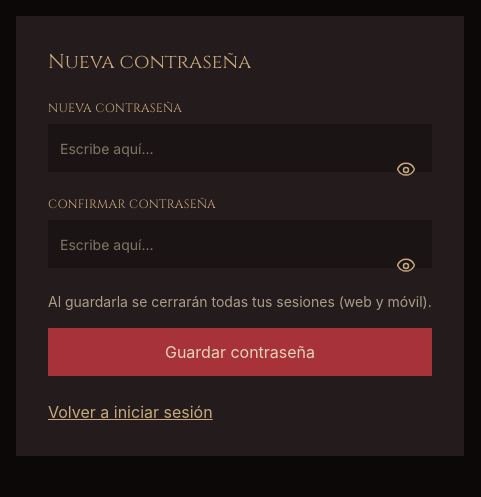
Scenario: reset password page › rejects mismatching passwords without calling the backend
The image size is (481, 497).
Type "Nueva#2026" into the password field labelled "Nueva contraseña" at (240, 148), box top-left (48, 124), bottom-right (432, 172)
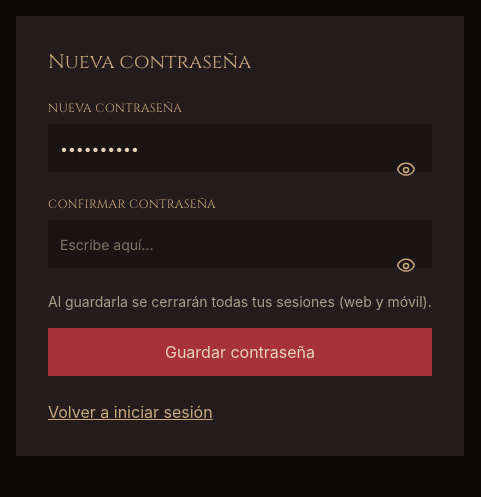
Type "Otra#2026" into the password field labelled "Confirmar contraseña" at (240, 244), box top-left (48, 220), bottom-right (432, 268)
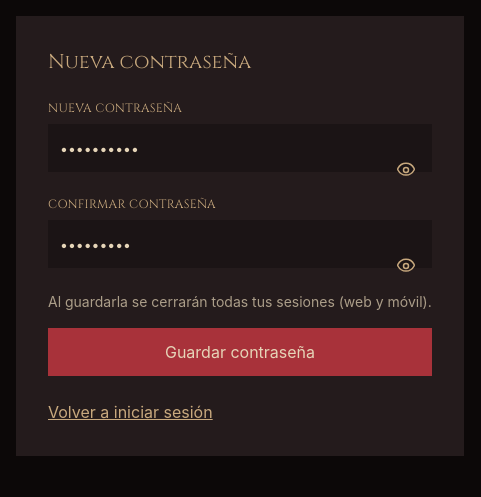
Click the button "Guardar contraseña" at (240, 352), box top-left (48, 328), bottom-right (432, 376)
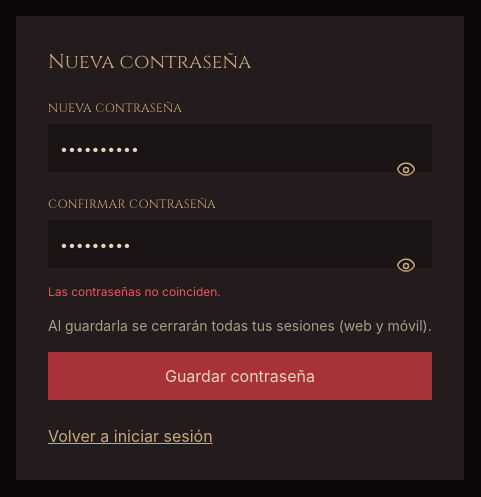
expect the text "Las contraseñas no coinciden." is shown: met, box top-left (48, 284), bottom-right (221, 299)
